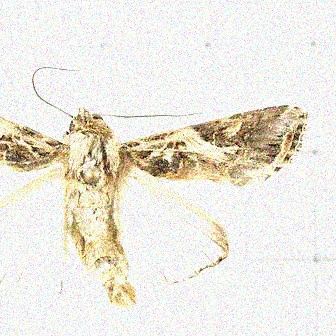Spodoptera litura: (1, 67, 311, 309)
